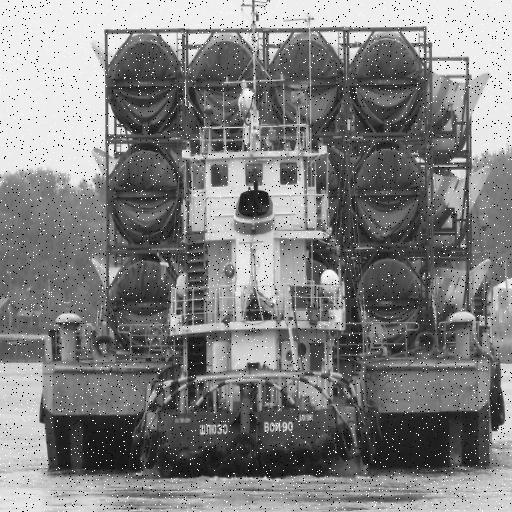tugboat: (129, 71, 385, 488)
